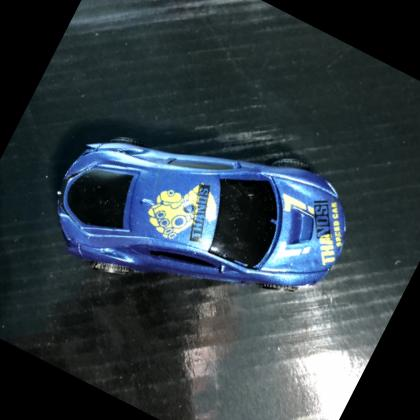Car: (54, 138, 346, 291)
